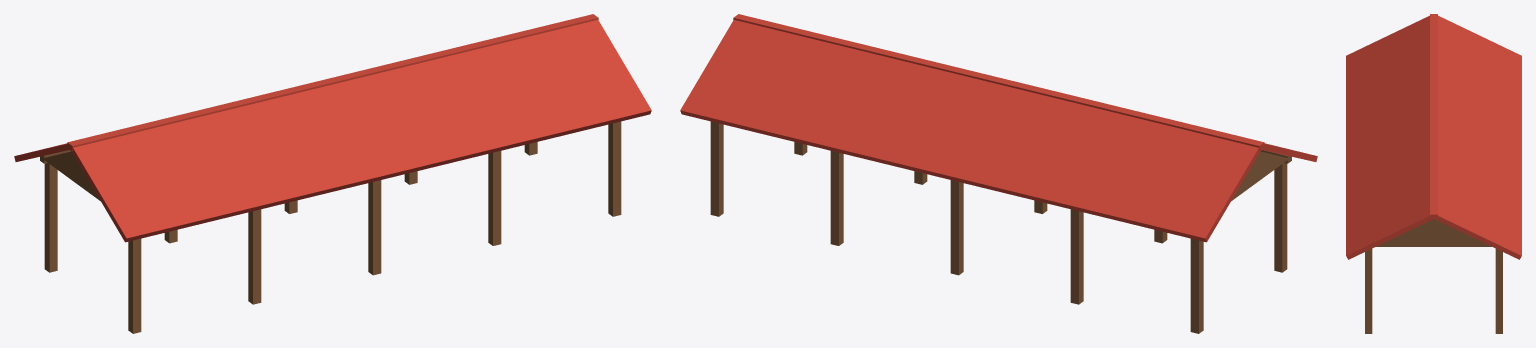
The model's file is shed.obj.
3 views of the same model, side by side, from view 1: azimuth 30°, elevation 25°; view 2: azimuth 150°, elevation 25°; view 3: azimuth 270°, elevation 25° (orthographic). The views are drawn at different scales.
Visible parts, largest first — view 1: roof, frame; view 2: roof, frame; view 3: roof, frame.
Part boxes in pixels (x1=…): roof: x1=14, y1=14, x2=651, y2=242; frame: x1=40, y1=121, x2=621, y2=333; roof: x1=680, y1=14, x2=1317, y2=242; frame: x1=710, y1=121, x2=1291, y2=333; roof: x1=1346, y1=14, x2=1521, y2=259; frame: x1=1365, y1=219, x2=1502, y2=333.
Size of the model in its own units: 11.62 by 3.42 by 4.3.
